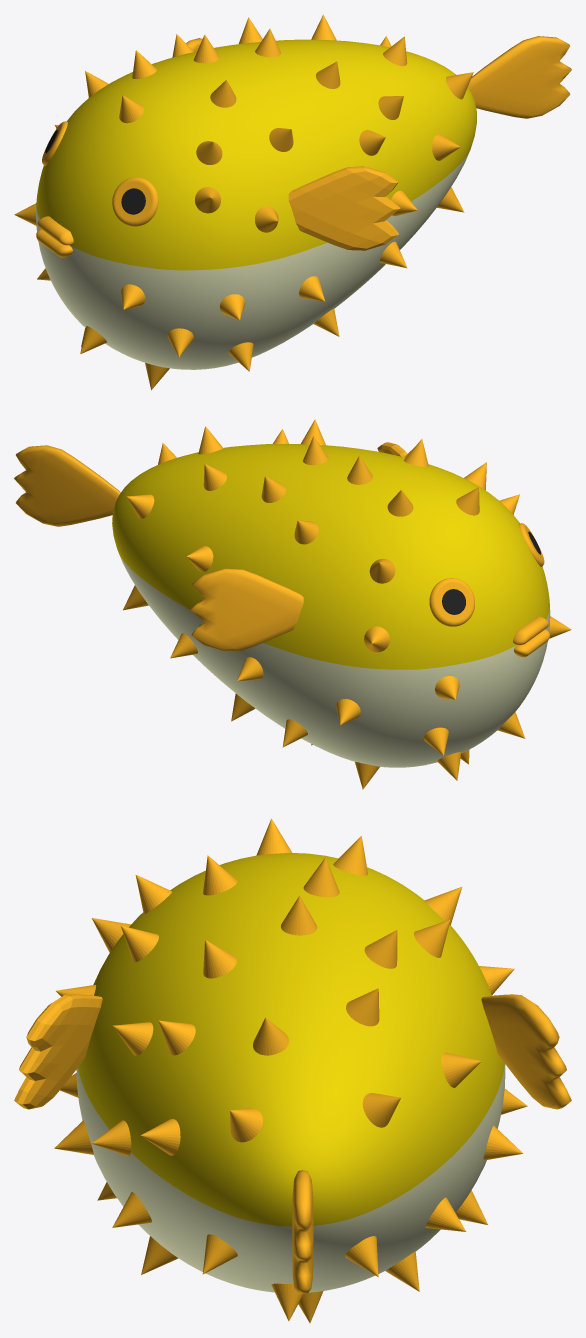
Rendered from balon balık1.fbx.
The picture shows the model from 3 angles, top to bottom: view 1: azimuth 30°, elevation 25°; view 2: azimuth 150°, elevation 25°; view 3: azimuth 270°, elevation 25°; orthographic projection. The views are drawn at different scales.
Parts seen in each view (by area): view 1: Cube; view 2: Cube; view 3: Cube.
Part boxes in pixels (x1,y1,x2,y2): Cube: [14, 14, 571, 390]; Cube: [14, 419, 571, 789]; Cube: [14, 818, 571, 1323].
Size of the model in its own units: 392 by 223 by 260.
